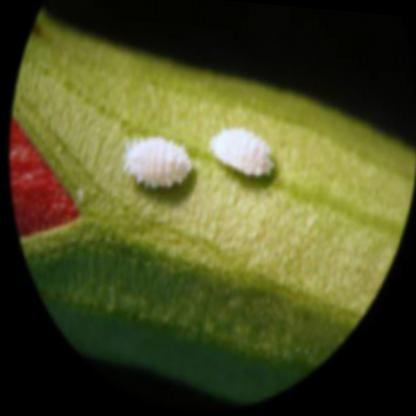mealy bug: (205, 130, 277, 175), (124, 140, 191, 186)
